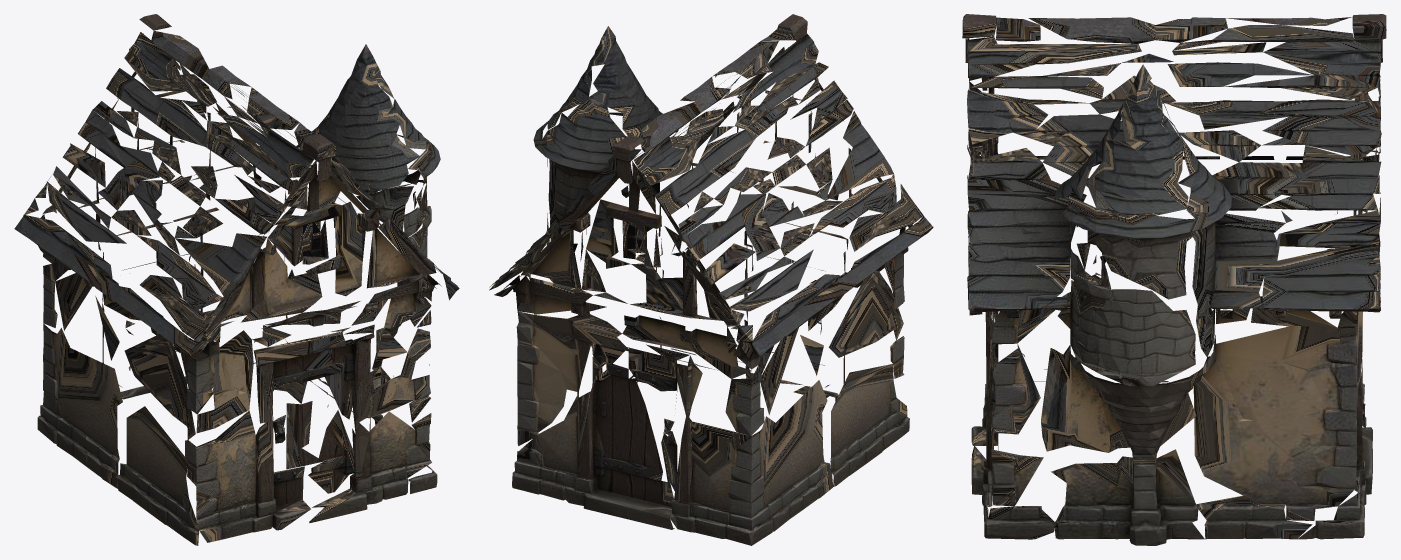
Rendered from bld_house_npc_e_a_LOD1.glb.
3 renders of one model, left to right at view 1: azimuth 30°, elevation 25°; view 2: azimuth 150°, elevation 25°; view 3: azimuth 270°, elevation 25°, orthographic. The views are drawn at different scales.
Parts seen in each view (by area): view 1: geometry_0; view 2: geometry_0; view 3: geometry_0.
Boxes of the visible parts, x1=… form: geometry_0: x1=14, y1=14, x2=459, y2=545; geometry_0: x1=489, y1=14, x2=933, y2=545; geometry_0: x1=962, y1=14, x2=1386, y2=545.
Size of the model in its own units: 5.03 by 6 by 4.89.
Materials: 1 (1 with a texture image).
